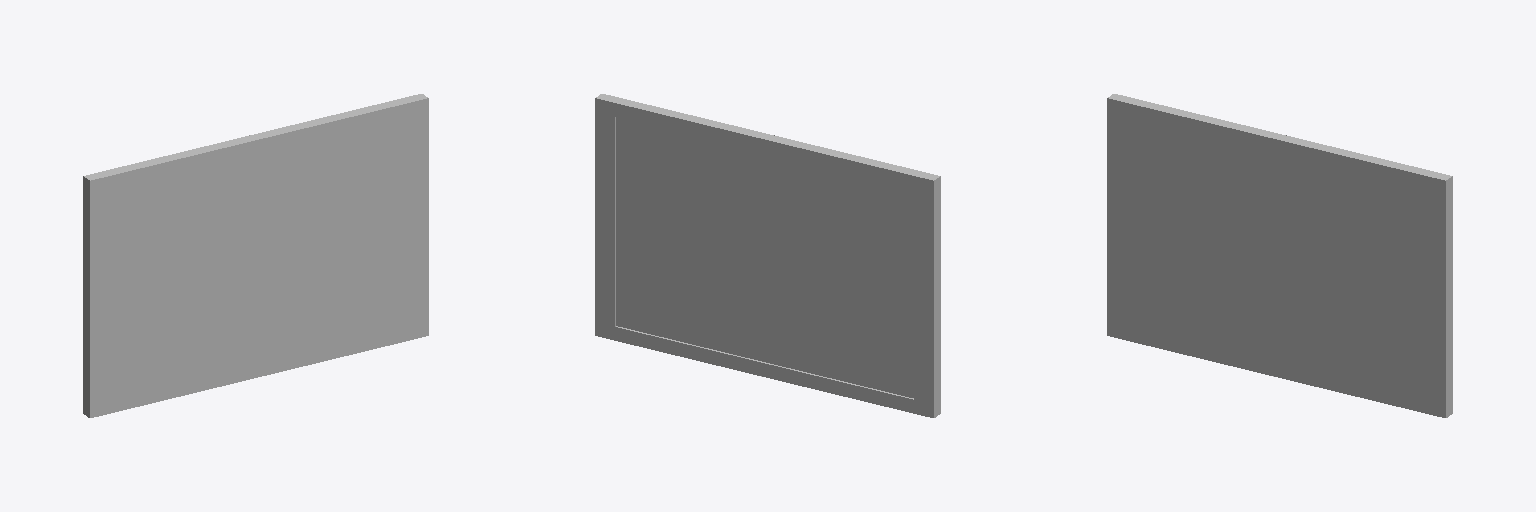
The model's file is Tablet.obj.
3 renders of one model, left to right at view 1: azimuth 30°, elevation 25°; view 2: azimuth 150°, elevation 25°; view 3: azimuth 330°, elevation 25°, orthographic.
Visible parts, largest first — view 1: Cube_Cube.013; view 2: Cube_Cube.013; view 3: Cube_Cube.013.
Part boxes in pixels (x1,y1,x2,y2): Cube_Cube.013: (83, 94, 428, 417); Cube_Cube.013: (595, 94, 940, 417); Cube_Cube.013: (1107, 94, 1452, 417).
Size of the model in its own units: 3.54 by 2.38 by 0.1187.